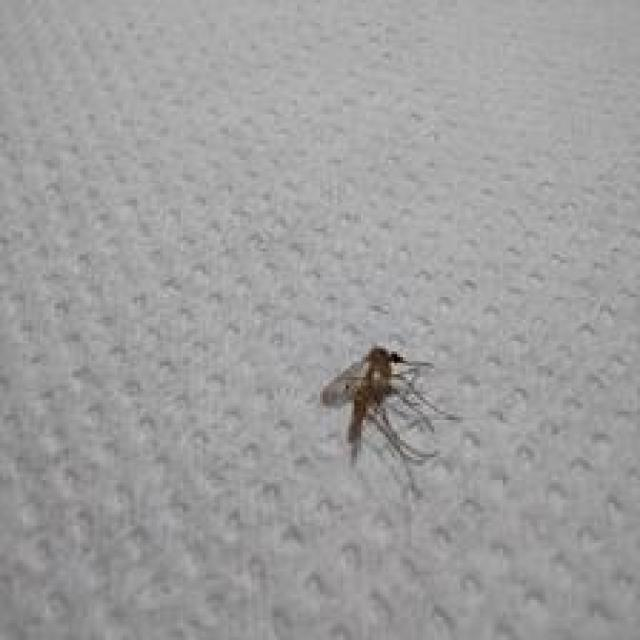Culex: (317, 344, 452, 467)
